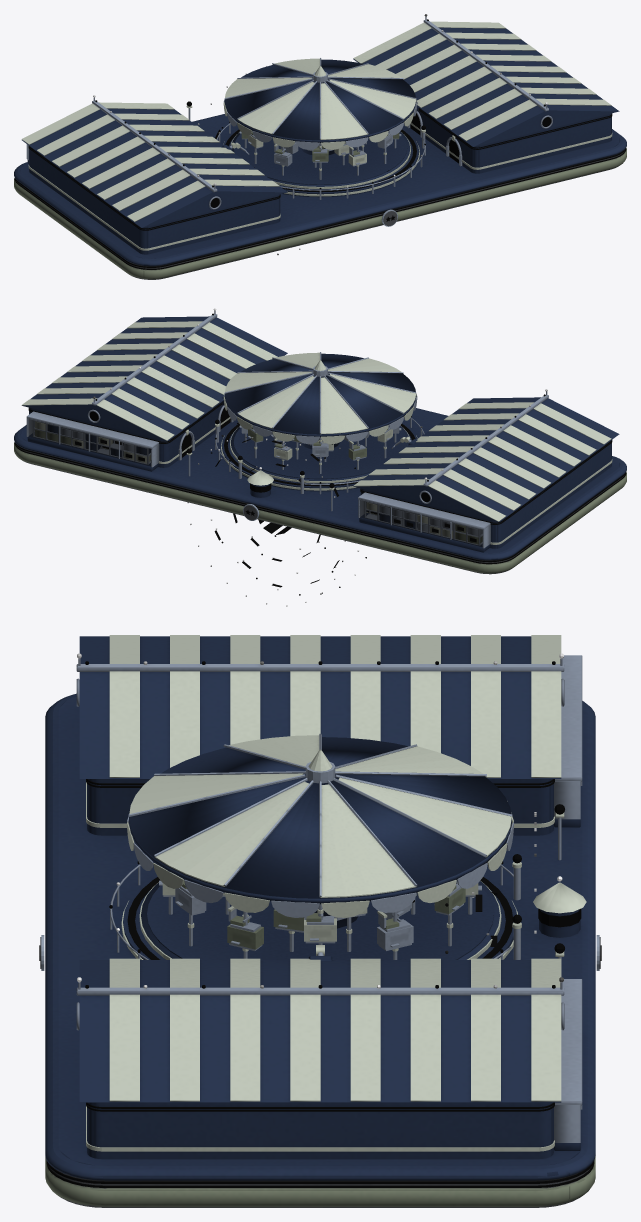
Rendered from SM_Evo_StorageComplex.fbx.
3 views of the same model, one above another, from view 1: azimuth 30°, elevation 25°; view 2: azimuth 150°, elevation 25°; view 3: azimuth 270°, elevation 25° (orthographic). The views are drawn at different scales.
Visible parts, largest first — view 1: SMN_Evo_StorageComplex, SpinDish_StorageComplexCarousel, Emblem_Fx_StorageComplex; view 2: SMN_Evo_StorageComplex, SpinDish_StorageComplexCarousel, Emblem_Fx_StorageComplex, Fx_StorageComplexCarousel; view 3: SMN_Evo_StorageComplex, SpinDish_StorageComplexCarousel, Emblem_Fx_StorageComplex.
Part boxes in pixels (x1,y1,x2,y2): SMN_Evo_StorageComplex: (14, 16, 626, 279); SpinDish_StorageComplexCarousel: (223, 58, 417, 189); Emblem_Fx_StorageComplex: (14, 14, 626, 269); SMN_Evo_StorageComplex: (14, 311, 626, 574); SpinDish_StorageComplexCarousel: (223, 352, 417, 483); Emblem_Fx_StorageComplex: (14, 308, 626, 564); Fx_StorageComplexCarousel: (187, 423, 366, 606); SMN_Evo_StorageComplex: (40, 635, 600, 1207); SpinDish_StorageComplexCarousel: (127, 733, 513, 959); Emblem_Fx_StorageComplex: (39, 653, 601, 1187).
Size of the model in its own units: 3.84 by 1.55 by 1.88.
